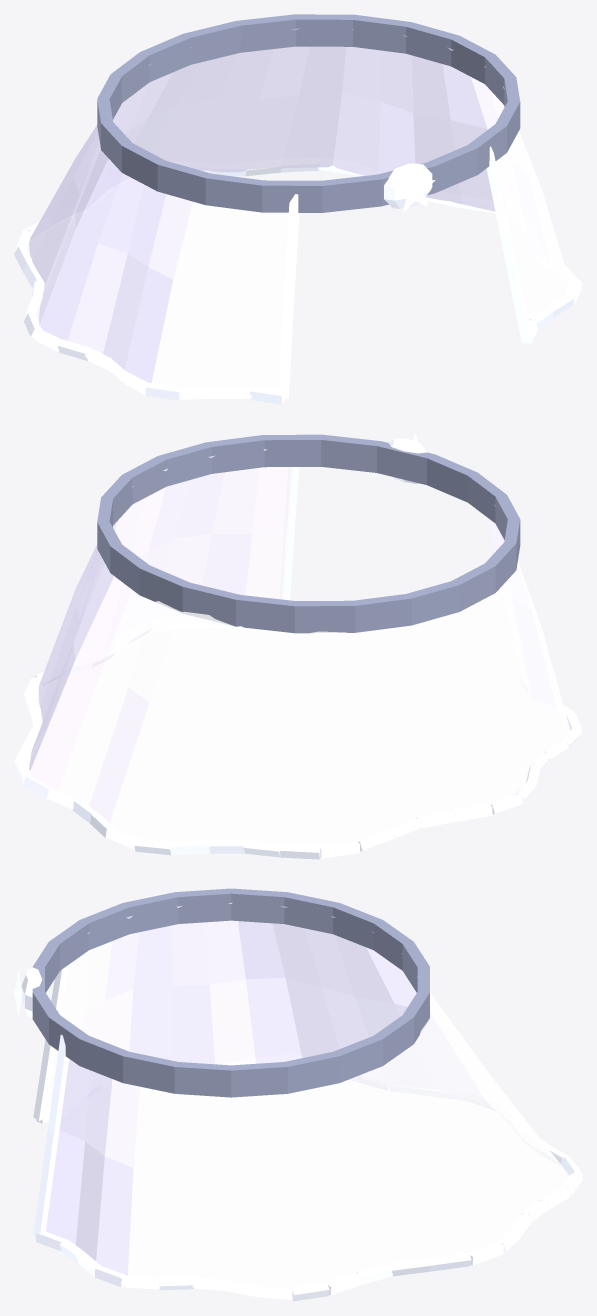
File: honored_dead_skirts.glb
3 renders of one model, top to bottom at view 1: azimuth 30°, elevation 25°; view 2: azimuth 150°, elevation 25°; view 3: azimuth 270°, elevation 25°, orthographic.
Visible parts, largest first — view 1: honored_dead_skirts; view 2: honored_dead_skirts; view 3: honored_dead_skirts.
Part boxes in pixels (x1=…): honored_dead_skirts: x1=14, y1=14, x2=582, y2=404; honored_dead_skirts: x1=14, y1=434, x2=582, y2=859; honored_dead_skirts: x1=14, y1=888, x2=582, y2=1301.
Size of the model in its own units: 1.15 by 0.474 by 1.15.
